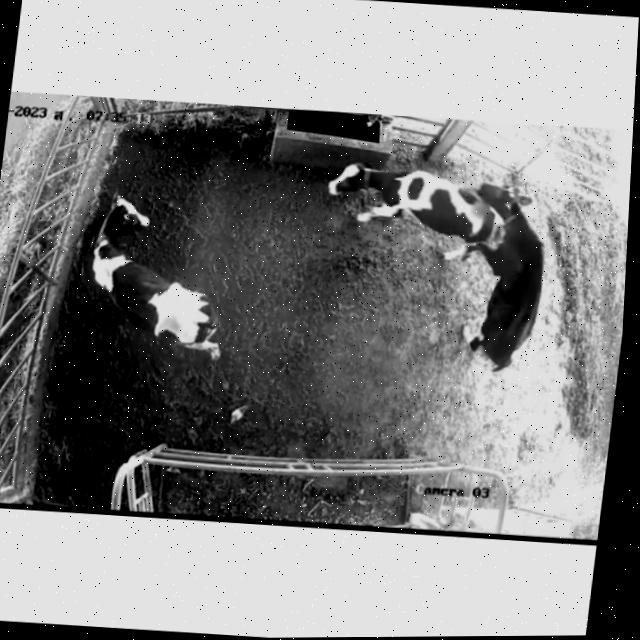propping: (458, 172, 547, 251)
